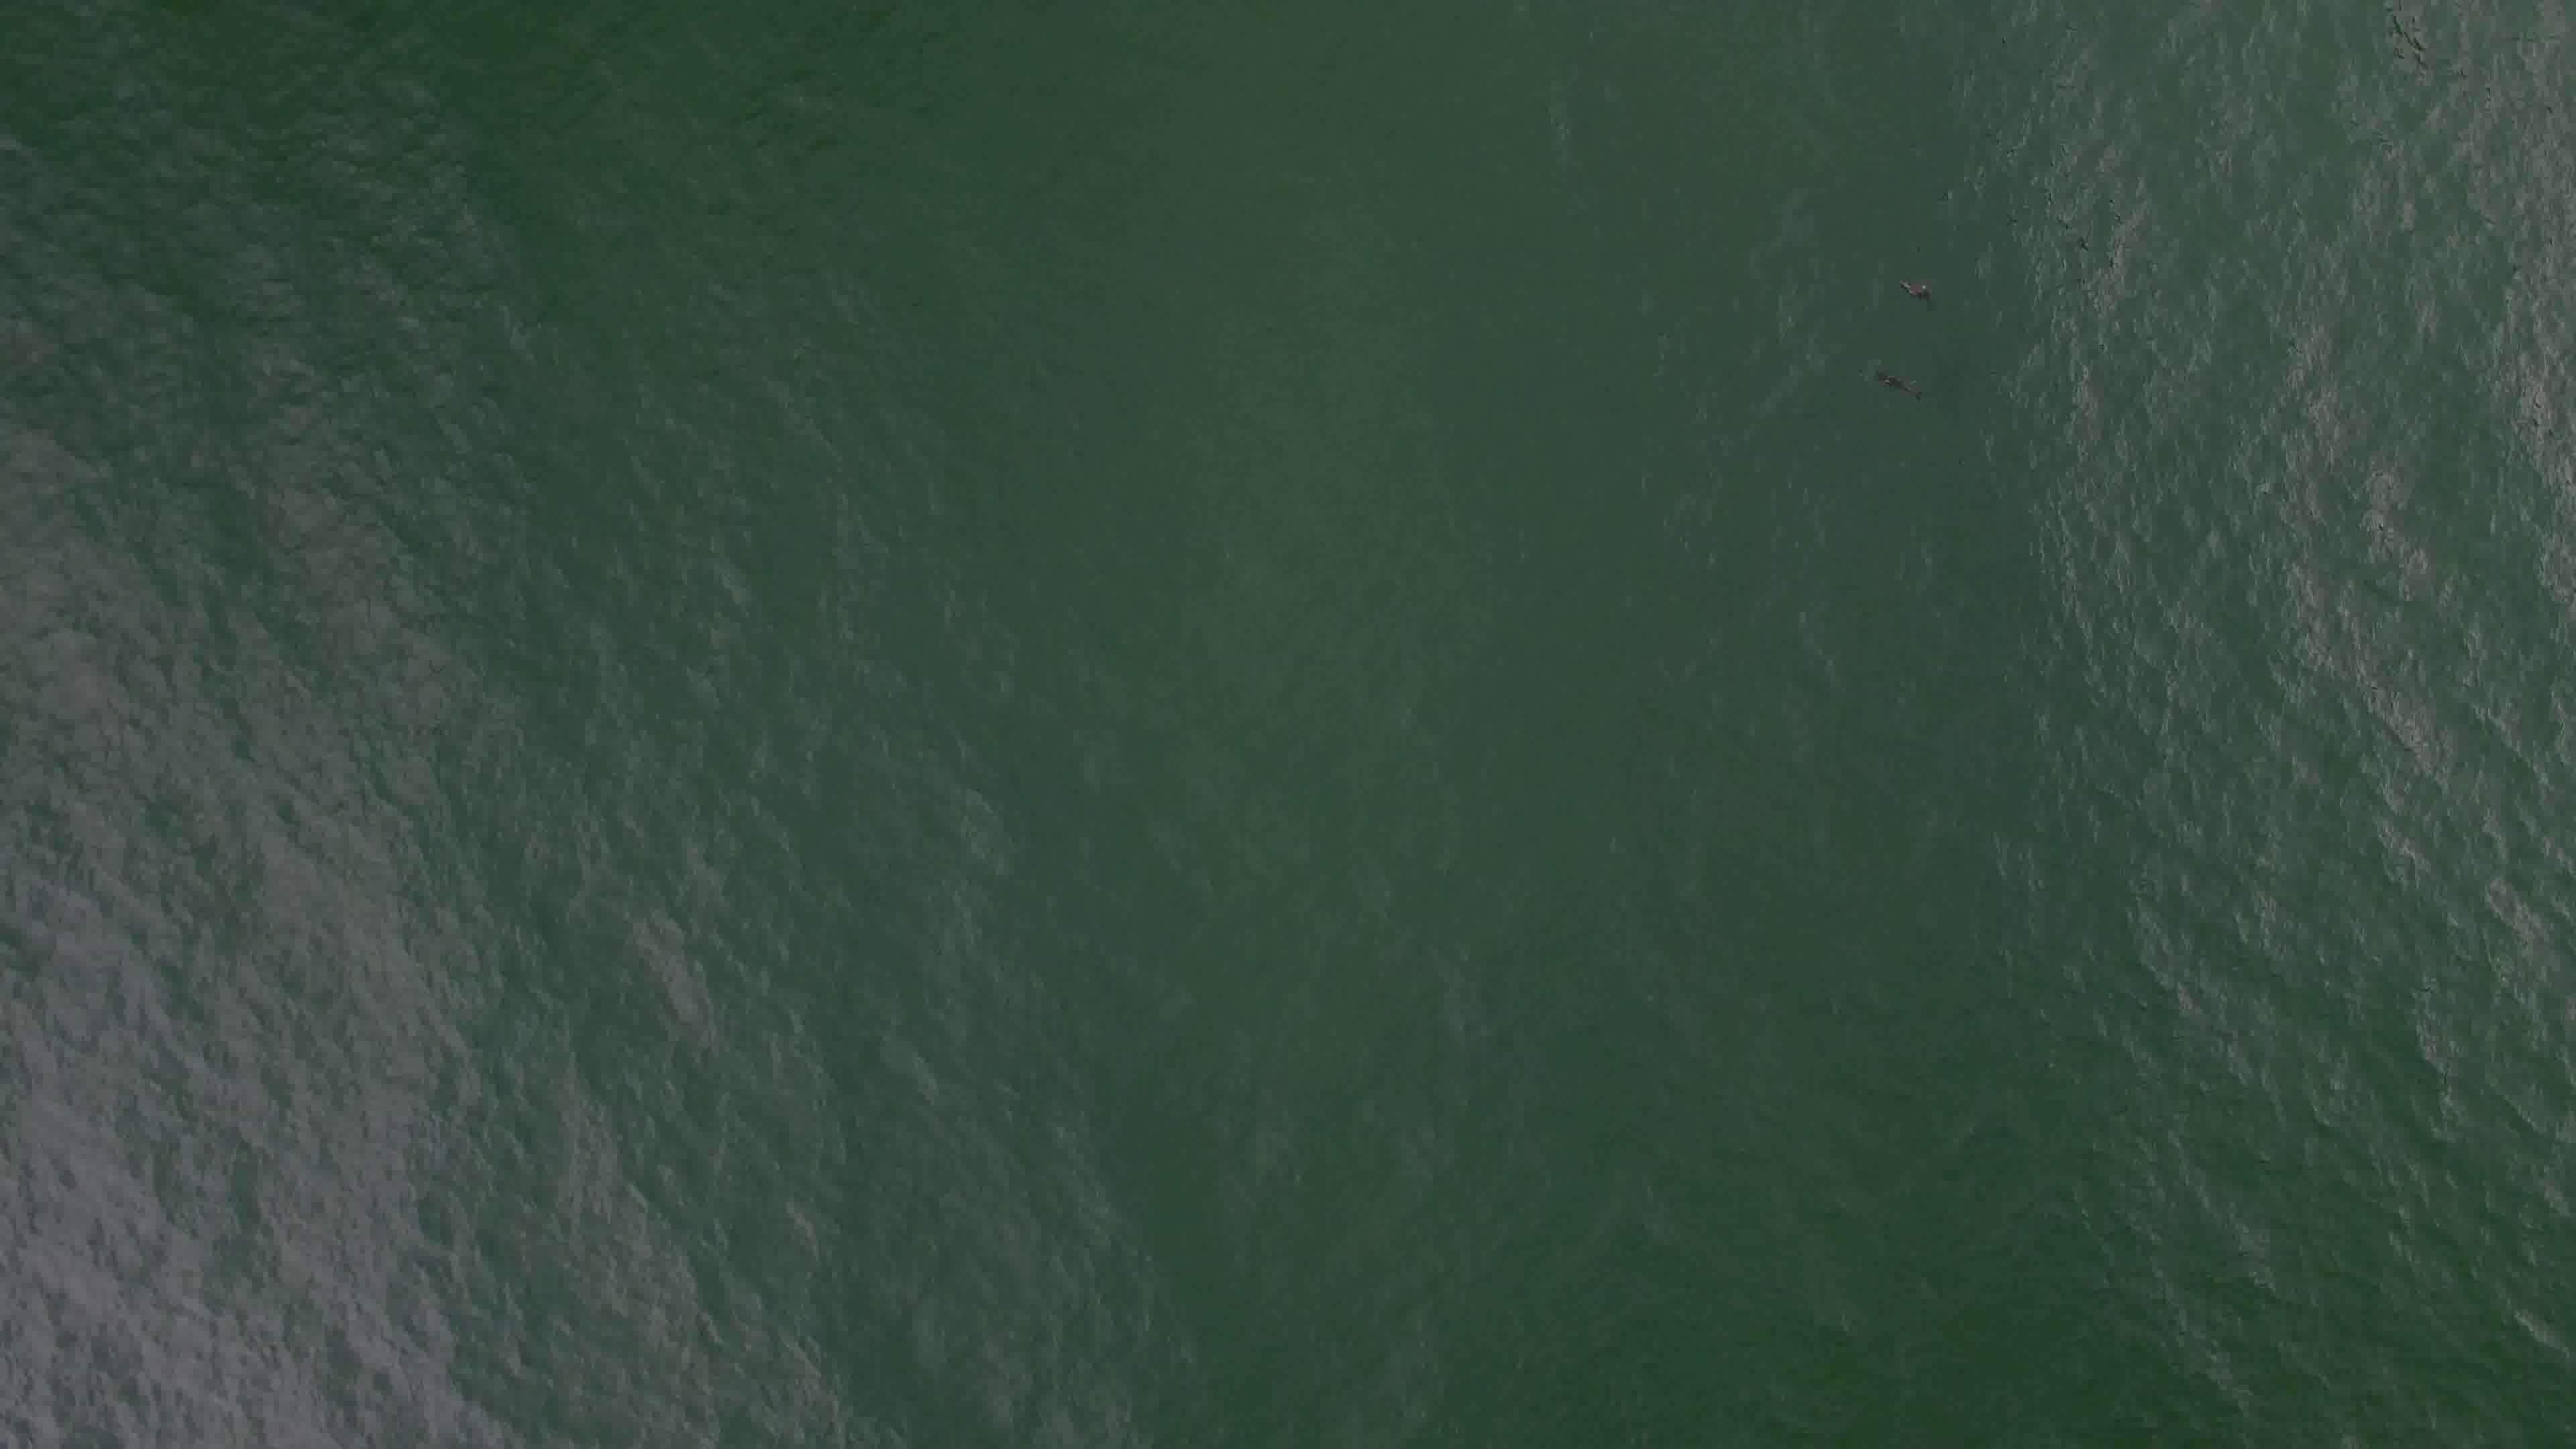dolphin: (1856, 336, 1930, 410), (1875, 248, 1948, 322)
